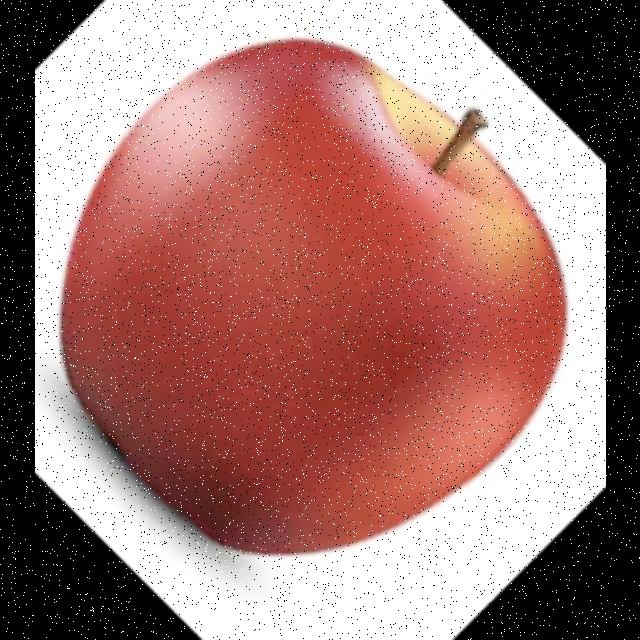Apel Segar: (61, 40, 581, 558)
